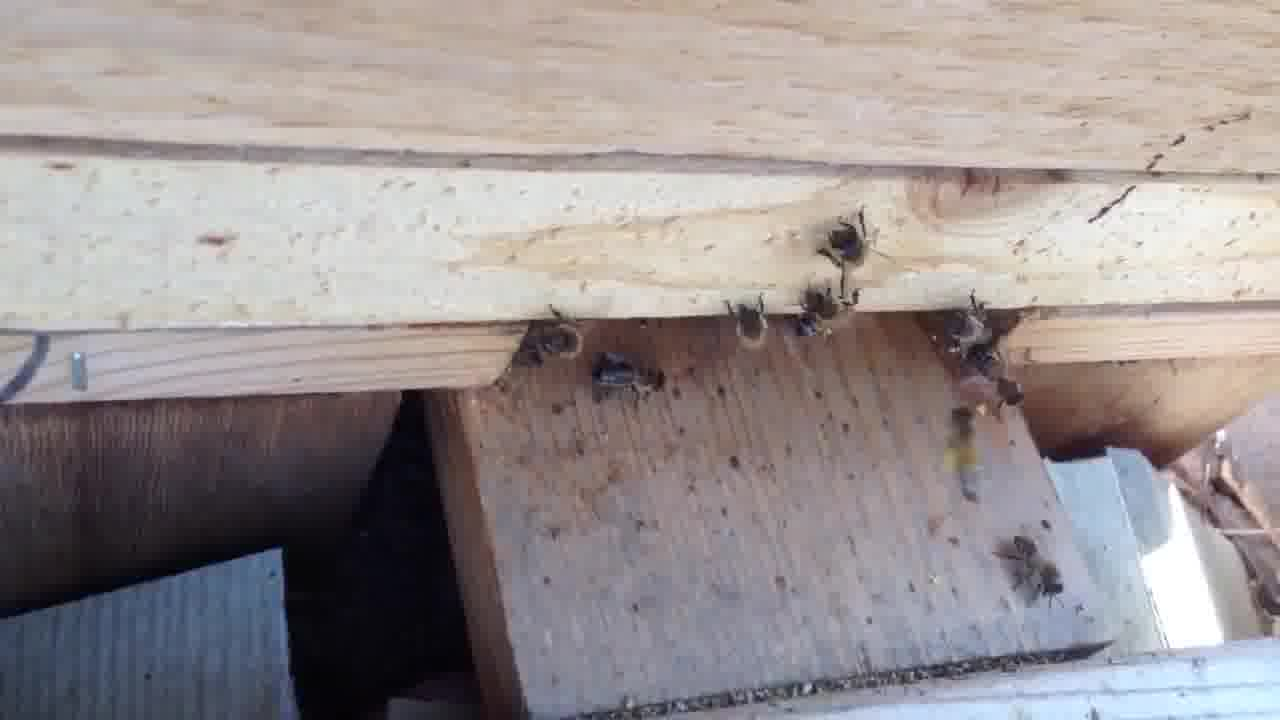pollen: (935, 403, 986, 504)
